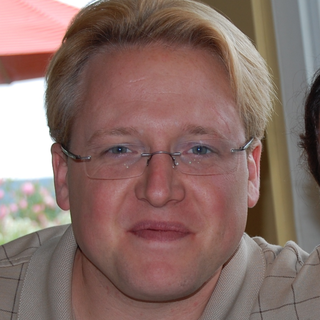eye: (178, 140, 220, 161), (97, 142, 141, 160)
